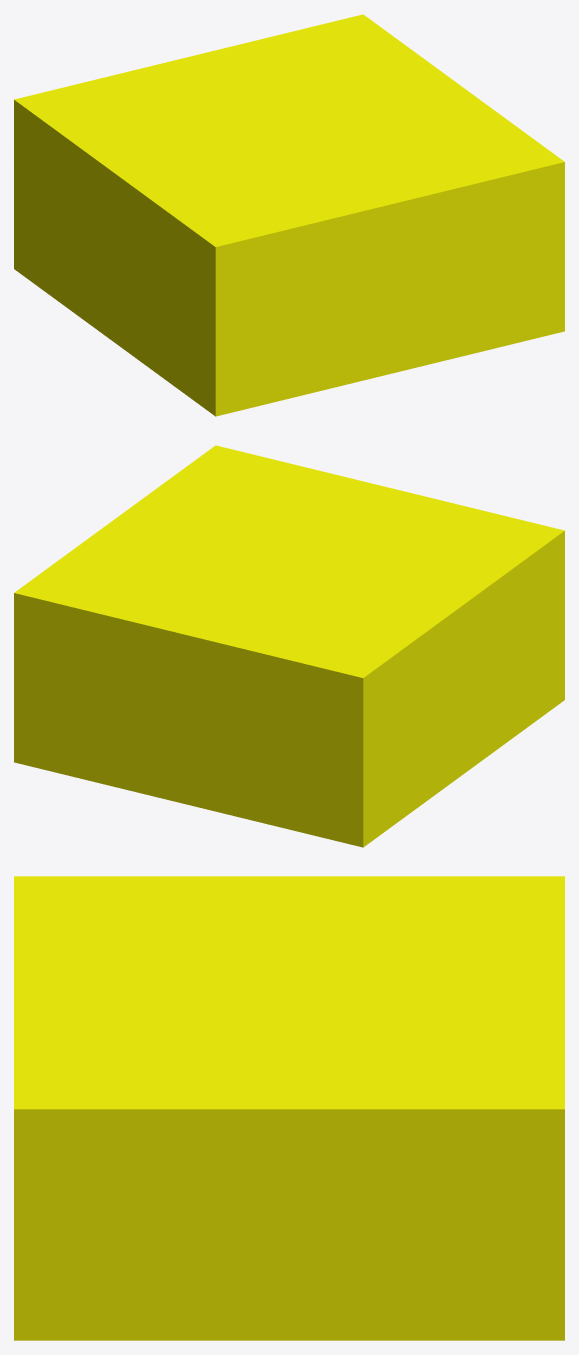
The picture shows the model from 3 angles, top to bottom: view 1: azimuth 30°, elevation 25°; view 2: azimuth 150°, elevation 25°; view 3: azimuth 270°, elevation 25°; orthographic projection. The views are drawn at different scales.
Parts seen in each view (by area): view 1: Cube; view 2: Cube; view 3: Cube.
Part boxes in pixels (x1,y1,x2,y2): Cube: [14, 14, 564, 416]; Cube: [14, 445, 564, 847]; Cube: [14, 876, 564, 1340].
Bounding box in the file's own units: 63.06 × 29.23 × 63.06.
Materials: 2 (2 with a texture image).
